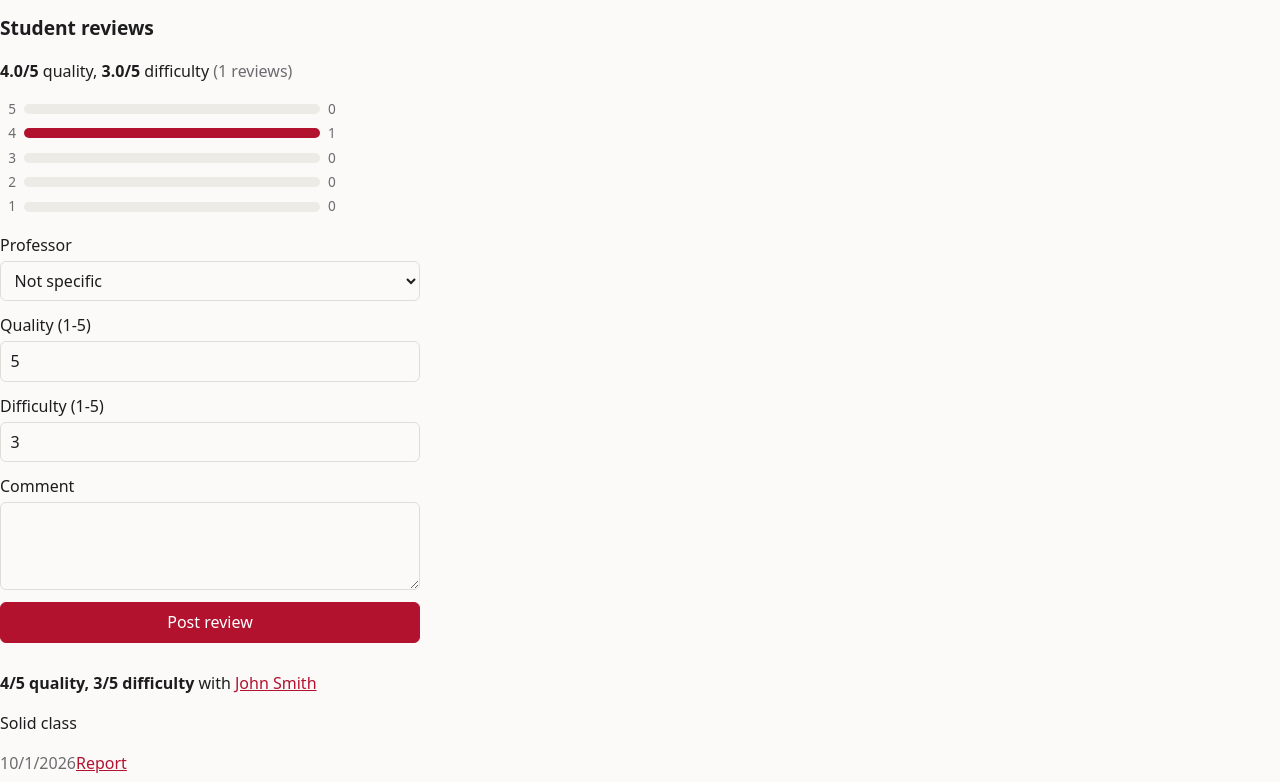
Scenario: Reviews › reporting › can be cancelled
Click the button "Report".
click(101, 763)  # box left=76, top=751, right=127, bottom=775
(page scrolled)
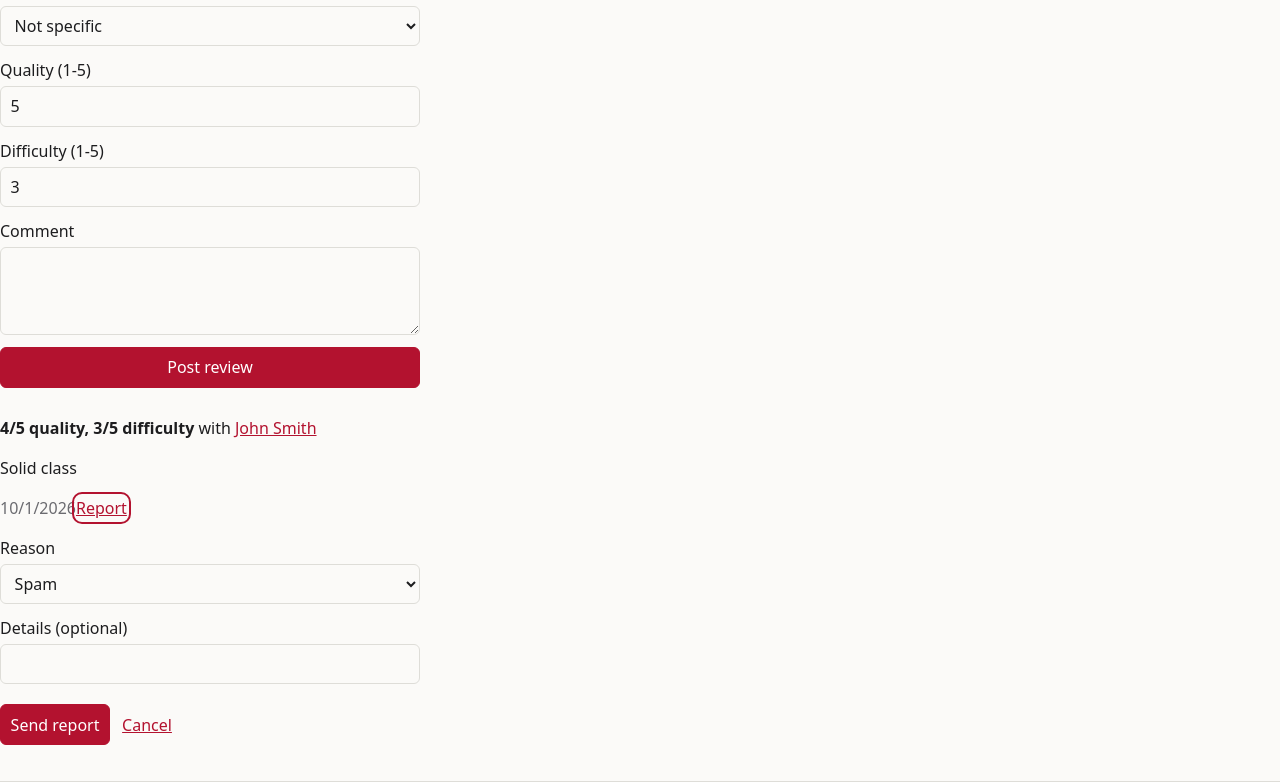
Click the button "Cancel".
click(147, 725)  # box left=122, top=713, right=172, bottom=737
(page scrolled)
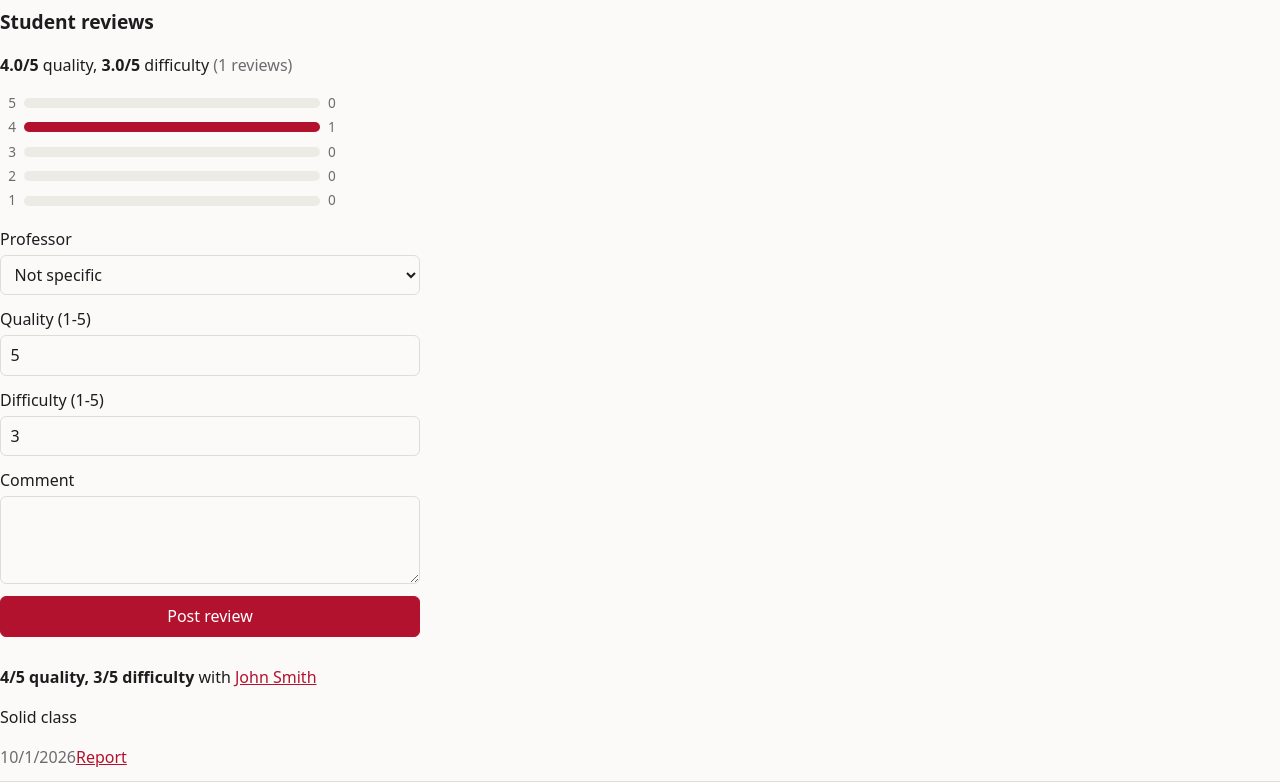
Expected: the label labelled "Reason" is gone
